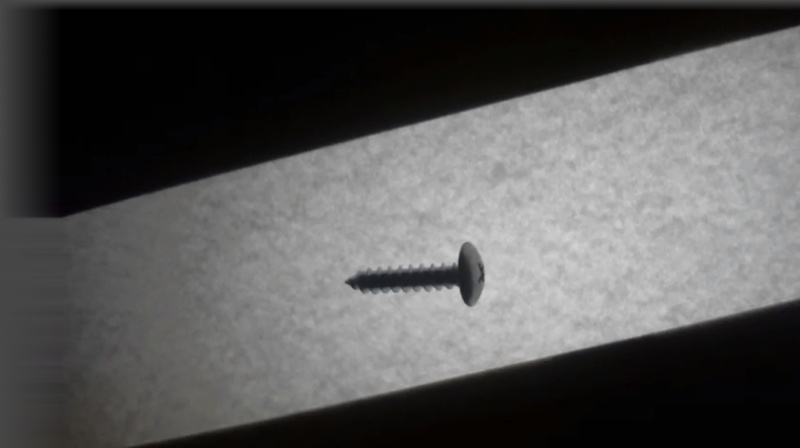S003: (340, 240, 489, 310)
